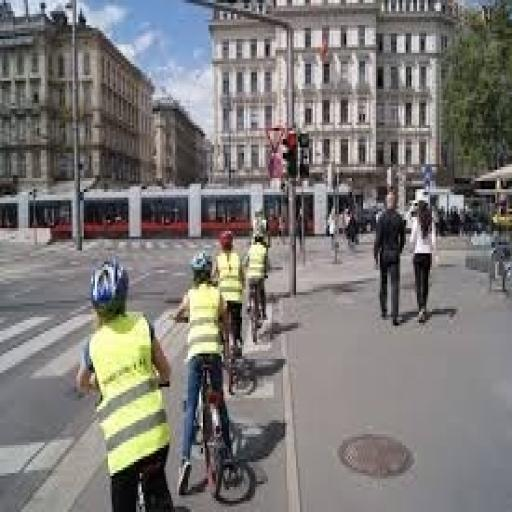cycling: (72, 256, 177, 509), (172, 248, 236, 498), (210, 226, 250, 356), (242, 223, 272, 334)
